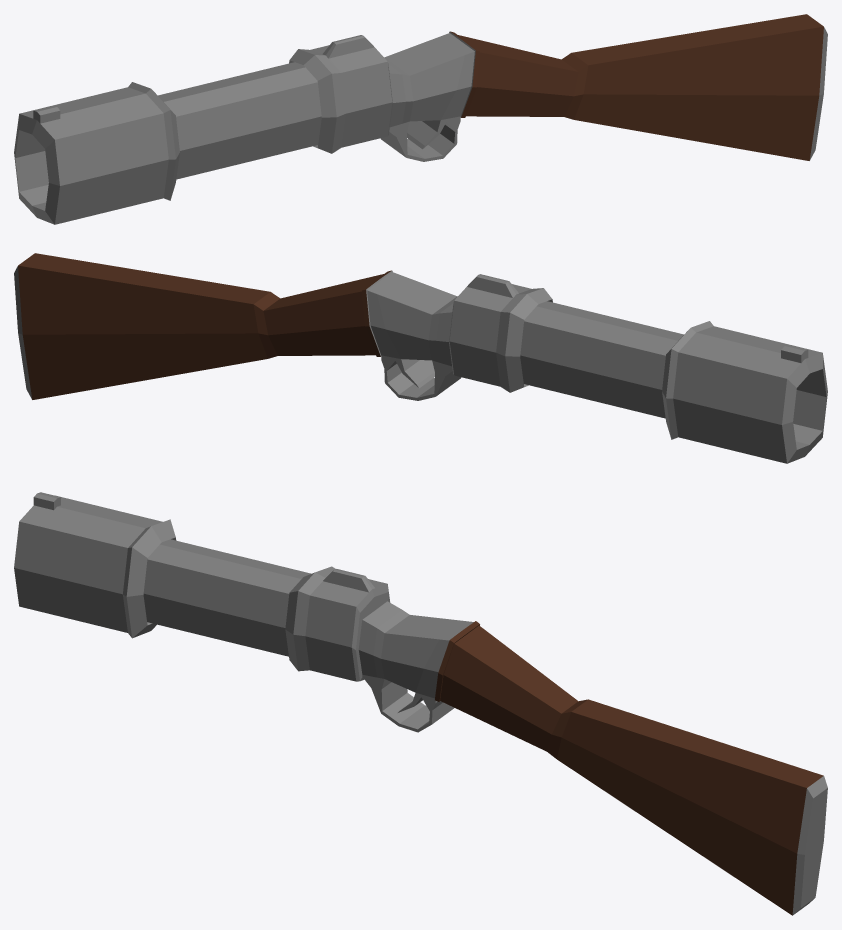
Rendered from granadeLauncher.fbx.
3 renders of one model, top to bottom at view 1: azimuth 30°, elevation 25°; view 2: azimuth 150°, elevation 25°; view 3: azimuth 330°, elevation 25°, orthographic.
Visible parts, largest first — view 1: Cube; view 2: Cube; view 3: Cube.
Boxes of the visible parts, x1,y1,x2,y2 form: Cube: (14, 14, 827, 224); Cube: (14, 253, 827, 463); Cube: (14, 492, 827, 915).
Size of the model in its own units: 912 by 254 by 98.82.
